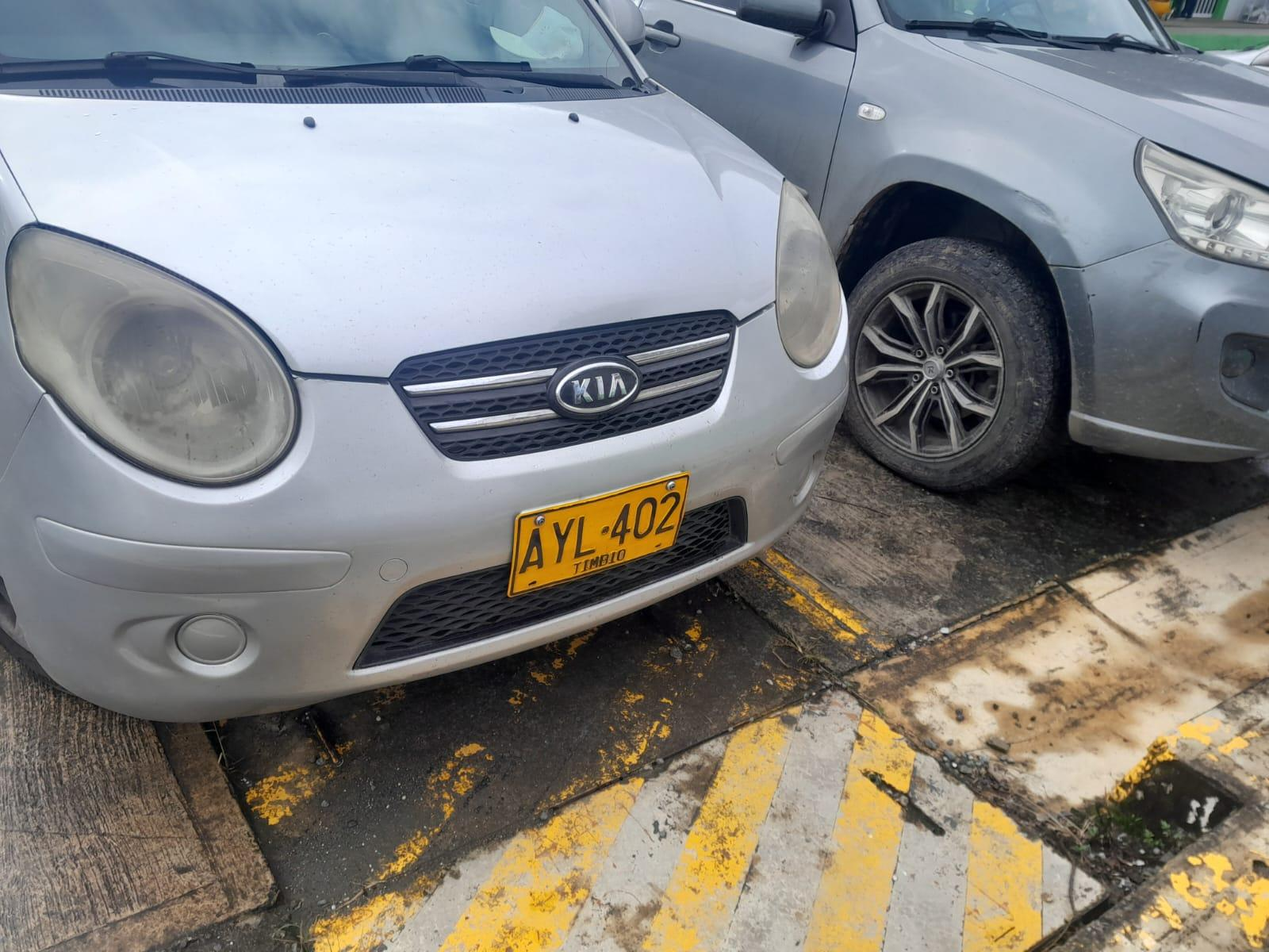placa: (507, 473, 688, 597)
